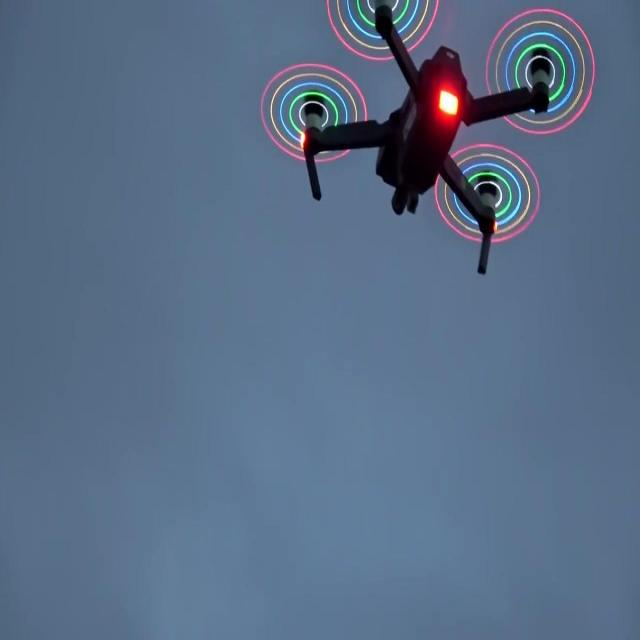UAV: (260, 0, 595, 275)
